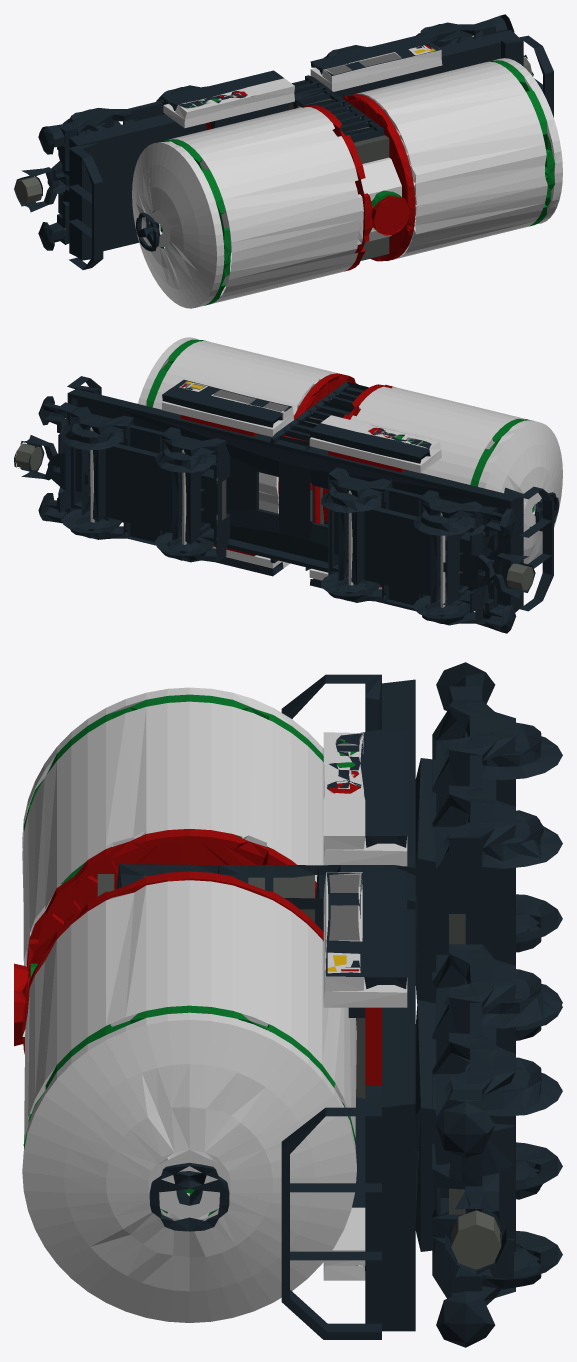
File: tanker.glb
The picture shows the model from 3 angles, top to bottom: view 1: azimuth 30°, elevation 25°; view 2: azimuth 150°, elevation 25°; view 3: azimuth 270°, elevation 25°; orthographic projection. The views are drawn at different scales.
Size of the model in its own units: 219 by 64.04 by 105.
